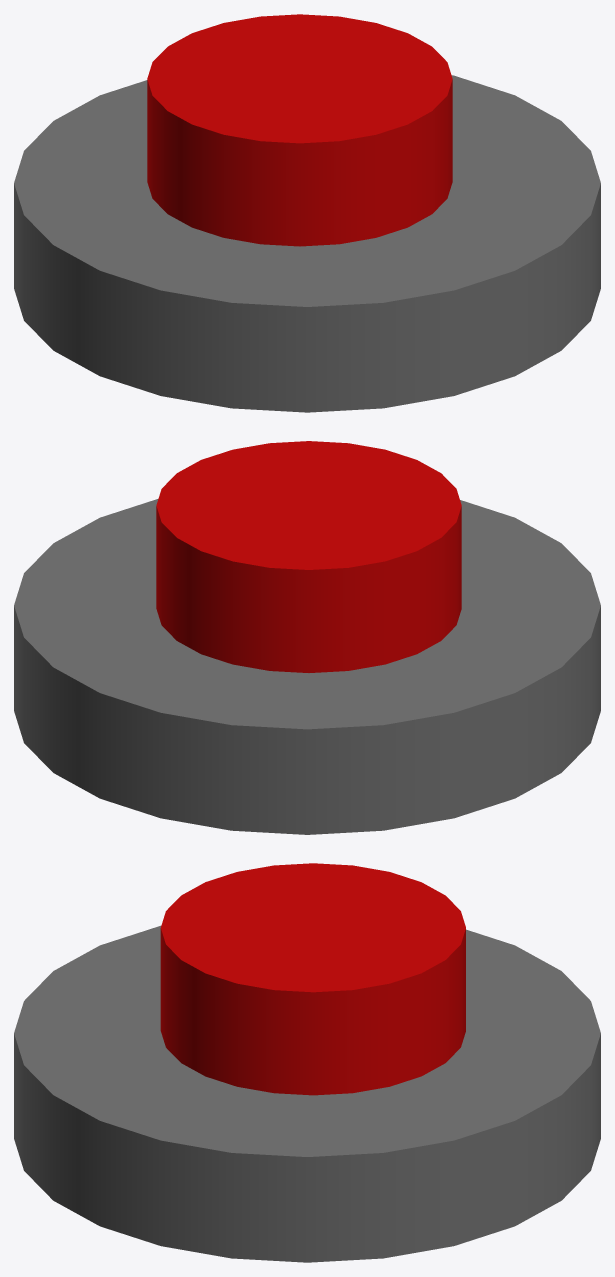
File: Button.dae
3 renders of one model, top to bottom at view 1: azimuth 30°, elevation 25°; view 2: azimuth 150°, elevation 25°; view 3: azimuth 270°, elevation 25°, orthographic.
Parts seen in each view (by area): view 1: SketchUp (×2); view 2: SketchUp (×2); view 3: SketchUp (×2).
Boxes of the visible parts, left/top/right/bottom form: SketchUp (×2): left=14, top=14, right=600, bottom=412; SketchUp (×2): left=14, top=441, right=600, bottom=834; SketchUp (×2): left=14, top=863, right=600, bottom=1262.
Bounding box in the file's own units: 764 × 764 × 300.
